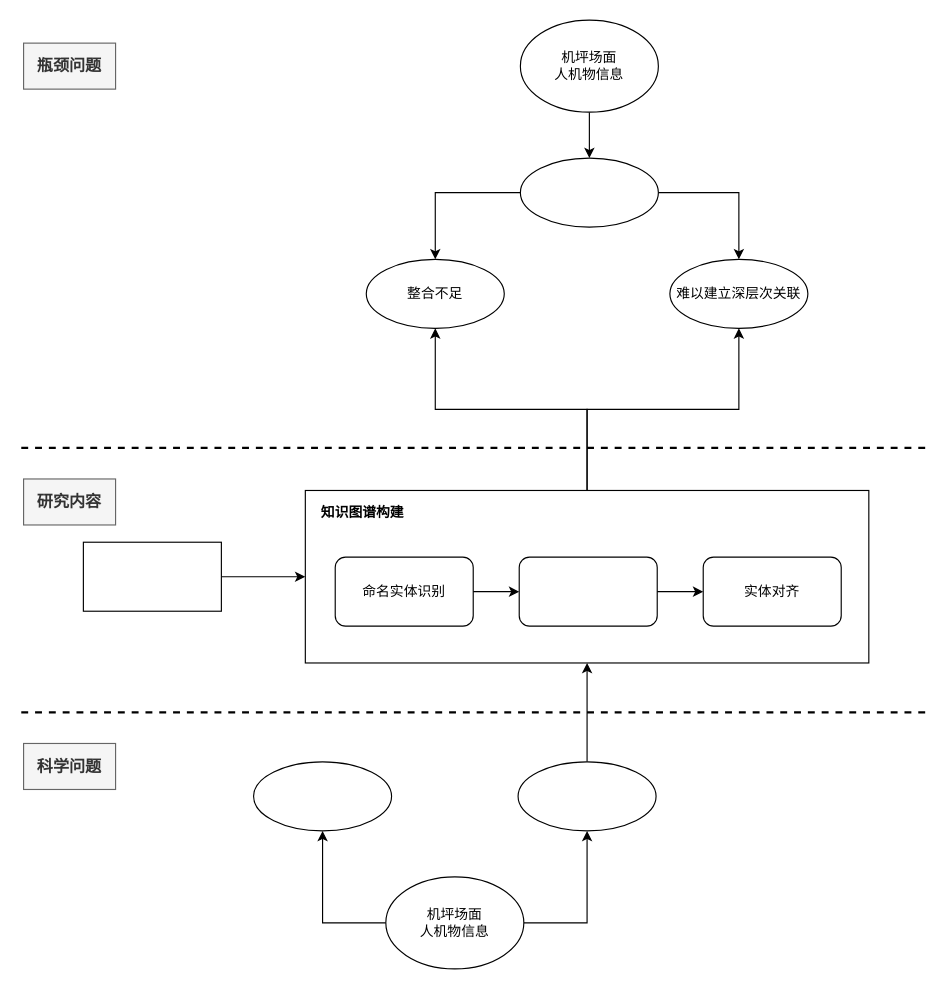
This 951x989 diagram has some shape labels left out. The centre of each missing label's shape, as x and y in pixels:
信息孤岛: [588,192]
关系抽取: [587,591]
准确表示: [322,796]
数据语义对齐: [151,576]
有效联合: [586,796]
